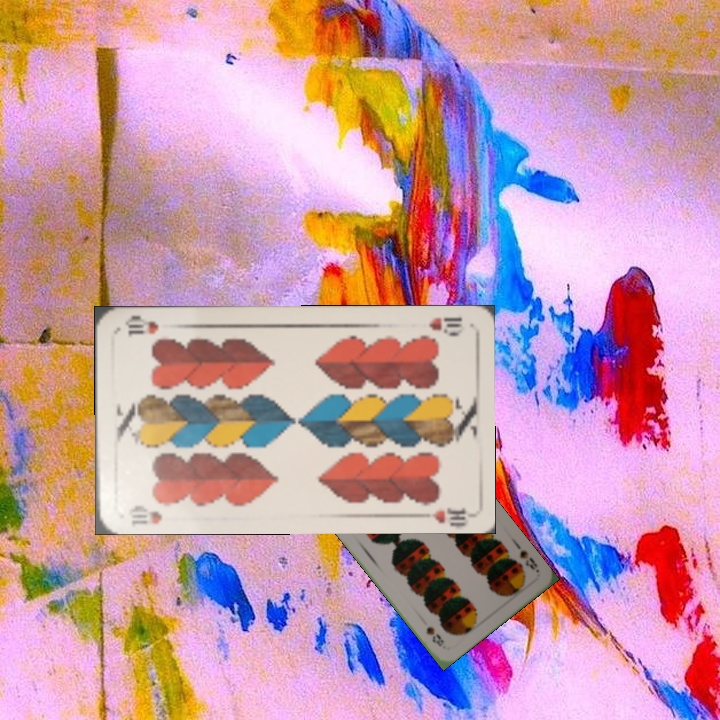H10: (424, 313, 467, 339), (124, 501, 165, 526)
S8: (515, 546, 542, 575)
